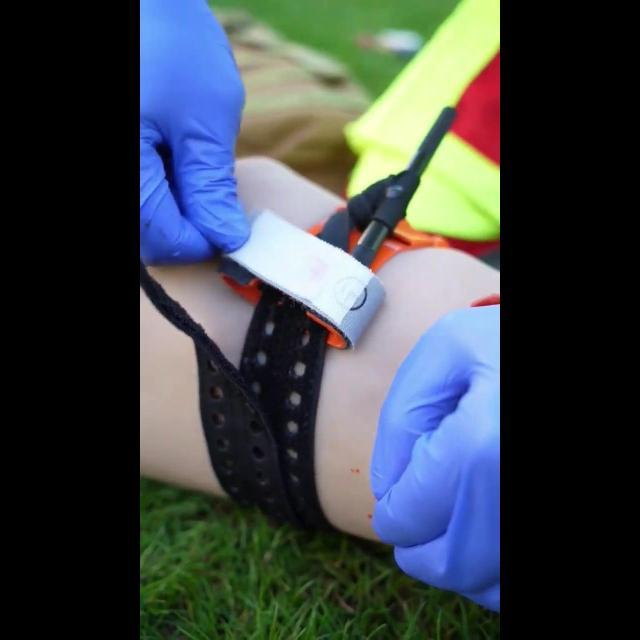blood: (471, 294, 500, 308)
